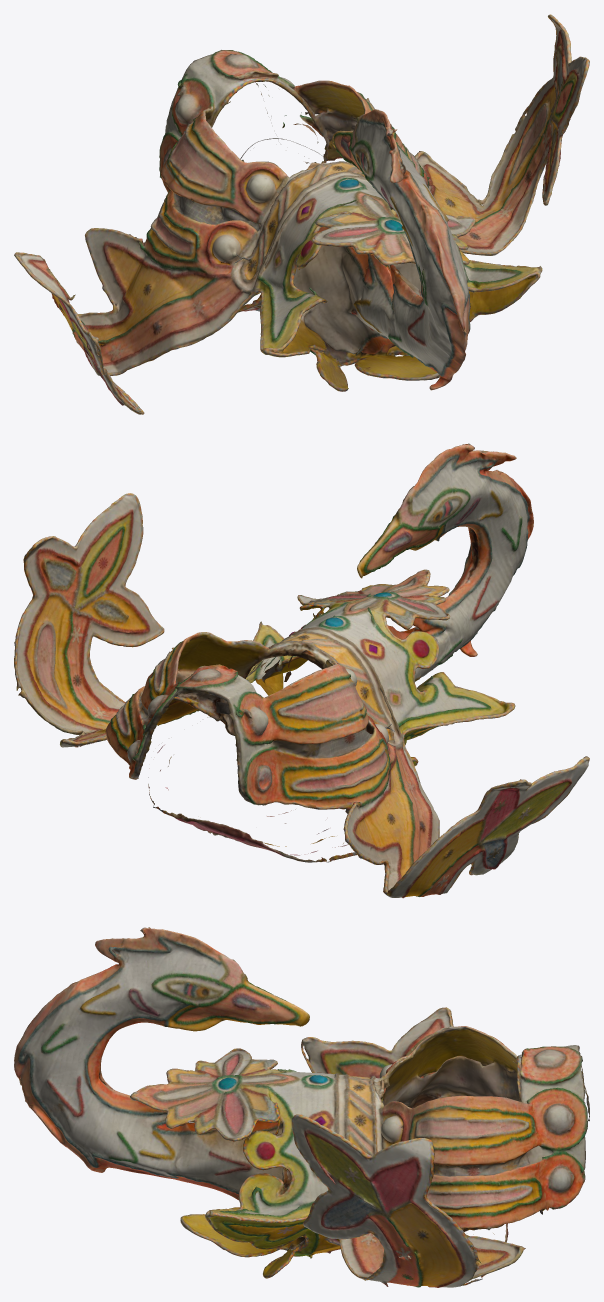
File: preview.glb
3 views of the same model, one above another, from view 1: azimuth 30°, elevation 25°; view 2: azimuth 150°, elevation 25°; view 3: azimuth 270°, elevation 25° (orthographic). The views are drawn at different scales.
Size of the model in its own units: 0.7873 by 0.4723 by 0.7698.
Materials: 1 (1 with a texture image).
